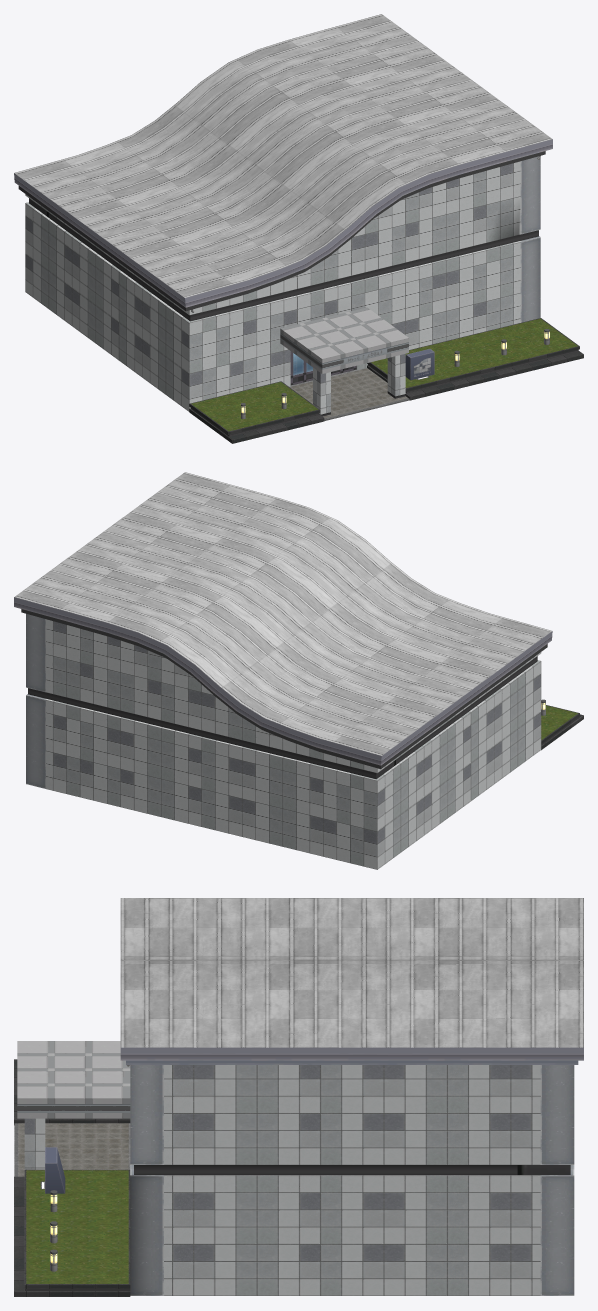
Rendered from t1_b_museum.glb.
3 views of the same model, one above another, from view 1: azimuth 30°, elevation 25°; view 2: azimuth 150°, elevation 25°; view 3: azimuth 270°, elevation 25° (orthographic). The views are drawn at different scales.
Parts seen in each view (by area): view 1: nomerge_body, nomerge_body_vrt_col; view 2: nomerge_body_vrt_col, nomerge_body; view 3: nomerge_body, nomerge_body_vrt_col.
Boxes of the visible parts, x1,y1,x2,y2 form: nomerge_body: (14,139,583,443); nomerge_body_vrt_col: (14,14,552,297); nomerge_body_vrt_col: (14,472,551,755); nomerge_body: (14,597,583,869); nomerge_body: (14,1041,583,1296); nomerge_body_vrt_col: (120,898,583,1047).
Size of the model in its own units: 27.99 by 13.67 by 27.73.
Materials: 6 (6 with a texture image).
